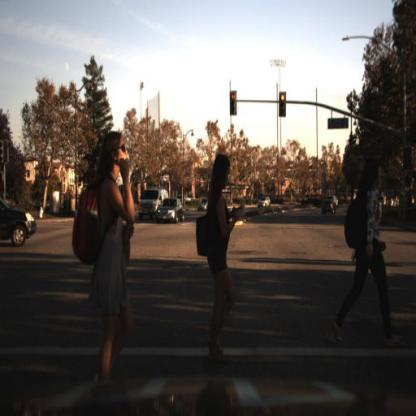car: (1, 196, 38, 254), (139, 187, 169, 220), (321, 197, 338, 220), (258, 193, 272, 213), (256, 194, 271, 210)
pedestrian: (71, 128, 137, 405), (331, 156, 407, 352), (195, 146, 246, 366)
trafficLight-Red: (277, 88, 289, 121), (402, 146, 415, 174)
trafficLight-RedLeft: (229, 88, 239, 119)
